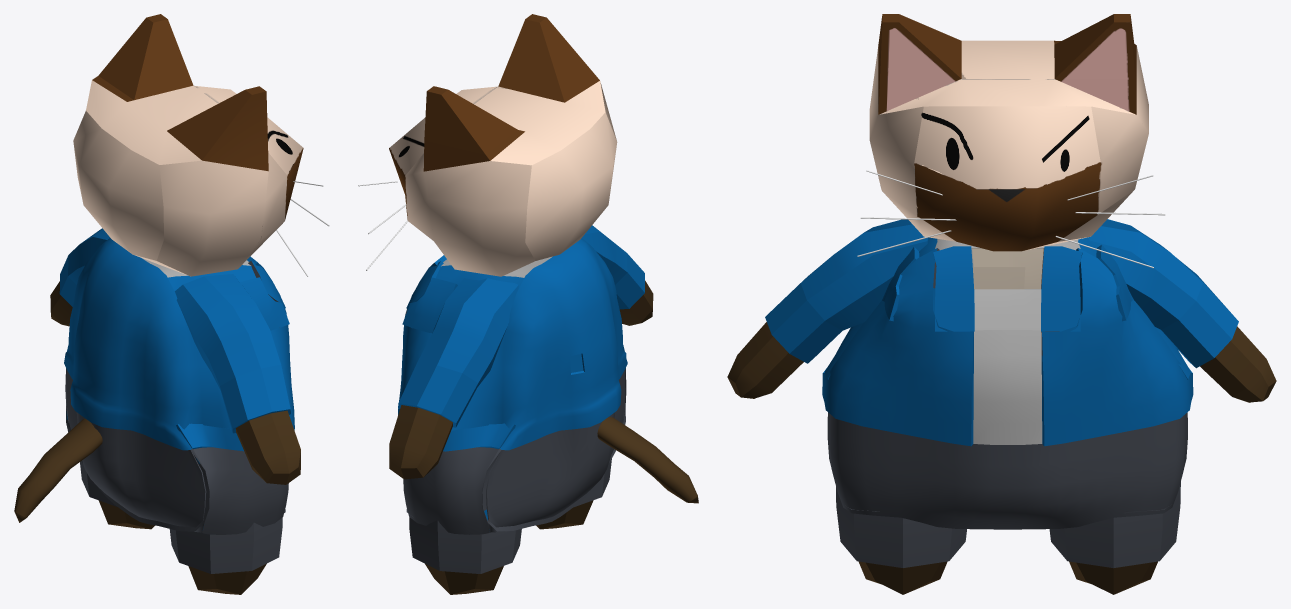
Rendered from Chad.fbx.
3 renders of one model, left to right at view 1: azimuth 30°, elevation 25°; view 2: azimuth 150°, elevation 25°; view 3: azimuth 270°, elevation 25°, orthographic. The views are drawn at different scales.
Parts seen in each view (by area): view 1: pCube1, Head, Arm2, leg2, pCylinder1, Arm3, leg3; view 2: pCube1, Head, Arm3, leg3, Arm2, pCylinder1, leg2; view 3: pCube1, Head, Arm2, Arm3, leg3, leg2.
Boxes of the visible parts, left/top/right/bottom form: pCube1: left=64, top=238, right=294, bottom=534; Head: left=73, top=14, right=303, bottom=276; Arm2: left=175, top=274, right=300, bottom=484; leg2: left=169, top=517, right=282, bottom=594; pCylinder1: left=14, top=418, right=102, bottom=522; Arm3: left=50, top=228, right=110, bottom=326; leg3: left=80, top=461, right=154, bottom=529; pCube1: left=398, top=238, right=627, bottom=534; Head: left=389, top=14, right=617, bottom=276; Arm3: left=389, top=278, right=518, bottom=479; leg3: left=409, top=517, right=521, bottom=594; Arm2: left=582, top=225, right=653, bottom=325; pCylinder1: left=597, top=417, right=698, bottom=503; leg2: left=536, top=459, right=611, bottom=529; pCube1: left=822, top=237, right=1193, bottom=529; Head: left=869, top=14, right=1148, bottom=251; Arm2: left=727, top=219, right=928, bottom=398; Arm3: left=1089, top=219, right=1276, bottom=402; leg3: left=1049, top=482, right=1180, bottom=594; leg2: left=836, top=487, right=966, bottom=594.
Size of the model in its own units: 155 by 259 by 219.
Materials: 8 (1 with a texture image).
